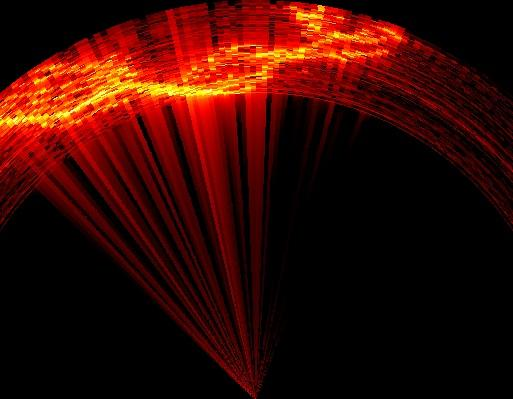shipwreck: (2, 2, 403, 121)
